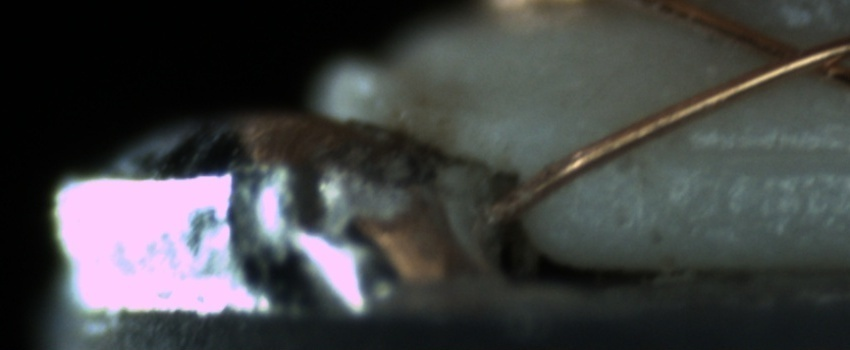CL: (743, 25, 848, 88)
DL: (636, 116, 850, 188)
